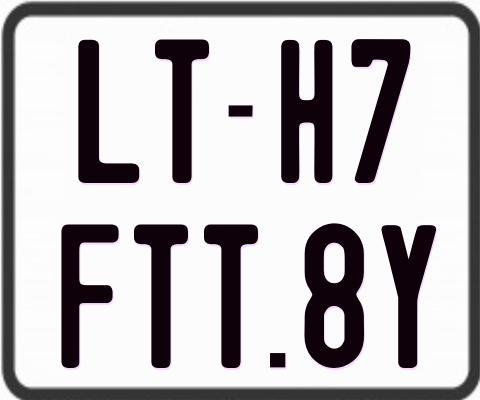7: (351, 37, 414, 183)
8: (302, 220, 363, 370)
F: (60, 223, 122, 372)
H: (281, 39, 338, 183)
L: (77, 38, 143, 187)
T: (154, 37, 210, 185), (202, 222, 257, 367), (131, 223, 185, 369)
Y: (381, 223, 437, 366)
